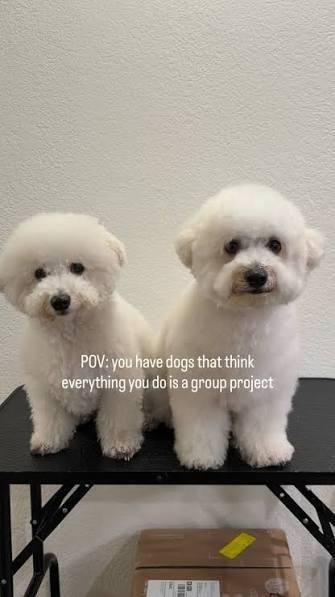adult_dog: (153, 180, 326, 473), (1, 211, 170, 461)
